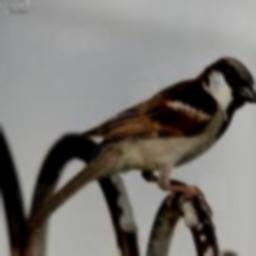Sparrow: (26, 58, 256, 232)
